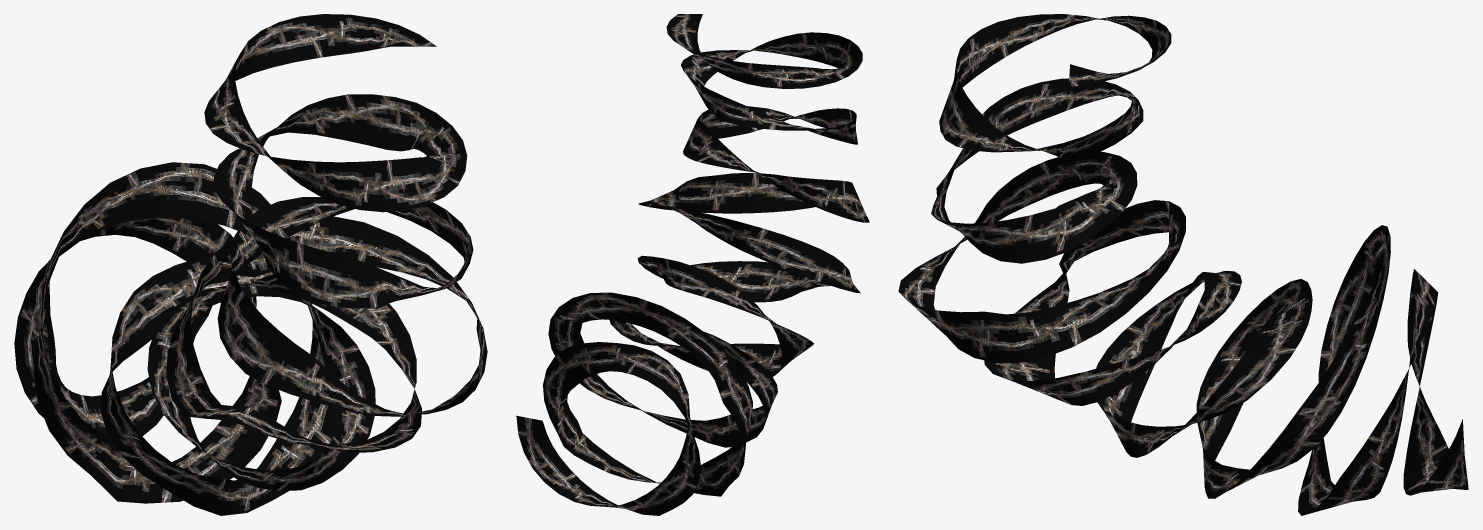
File: barbedwire_set_up90.glb
3 renders of one model, left to right at view 1: azimuth 30°, elevation 25°; view 2: azimuth 150°, elevation 25°; view 3: azimuth 270°, elevation 25°, orthographic. The views are drawn at different scales.
Visible parts, largest first — view 1: barbedwire_set_up90; view 2: barbedwire_set_up90; view 3: barbedwire_set_up90.
Part boxes in pixels (box(x1,y1,x2,y2)): barbedwire_set_up90: box(14, 14, 487, 515); barbedwire_set_up90: box(516, 14, 869, 515); barbedwire_set_up90: box(898, 14, 1468, 515).
Bounding box in the file's own units: 2.98 × 5.18 × 5.58.
Materials: 1 (1 with a texture image).
